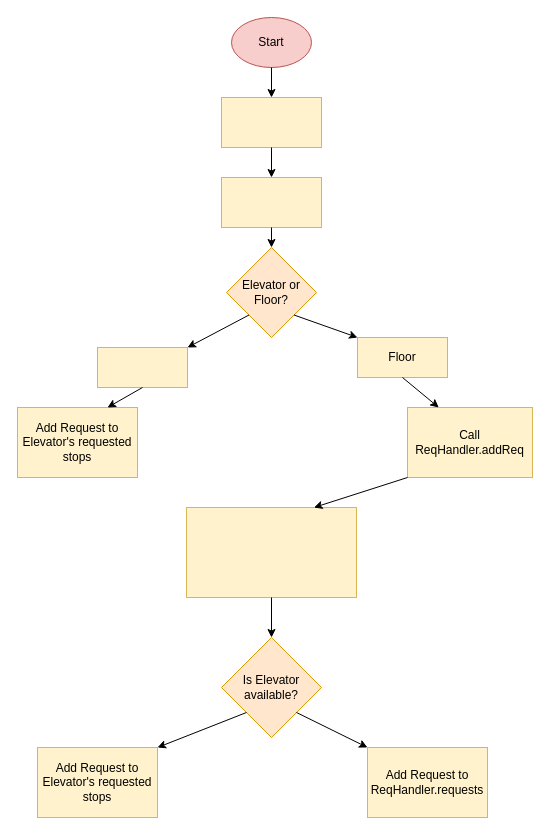
Image size: 550x835. Some labels were removed from this diagram. Here are the shapes that lost their labels. From the top down, the centre of each, then its label:
point 271,122: Click Button
point 271,202: Create Request
point 142,367: Elevator
point 271,552: Call ReqHandler.assignElevatorAlg
